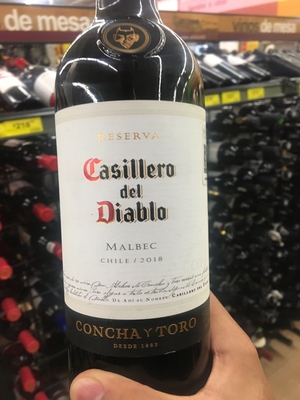casillero del diablo malbec: (41, 10, 224, 386)
